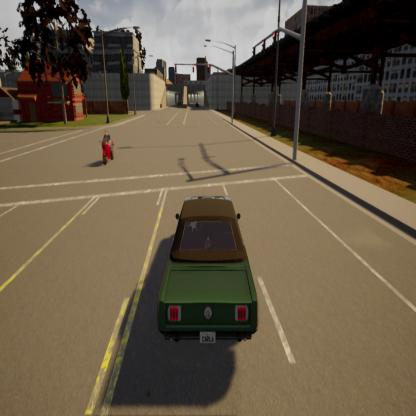Cars: (150, 187, 262, 358)
